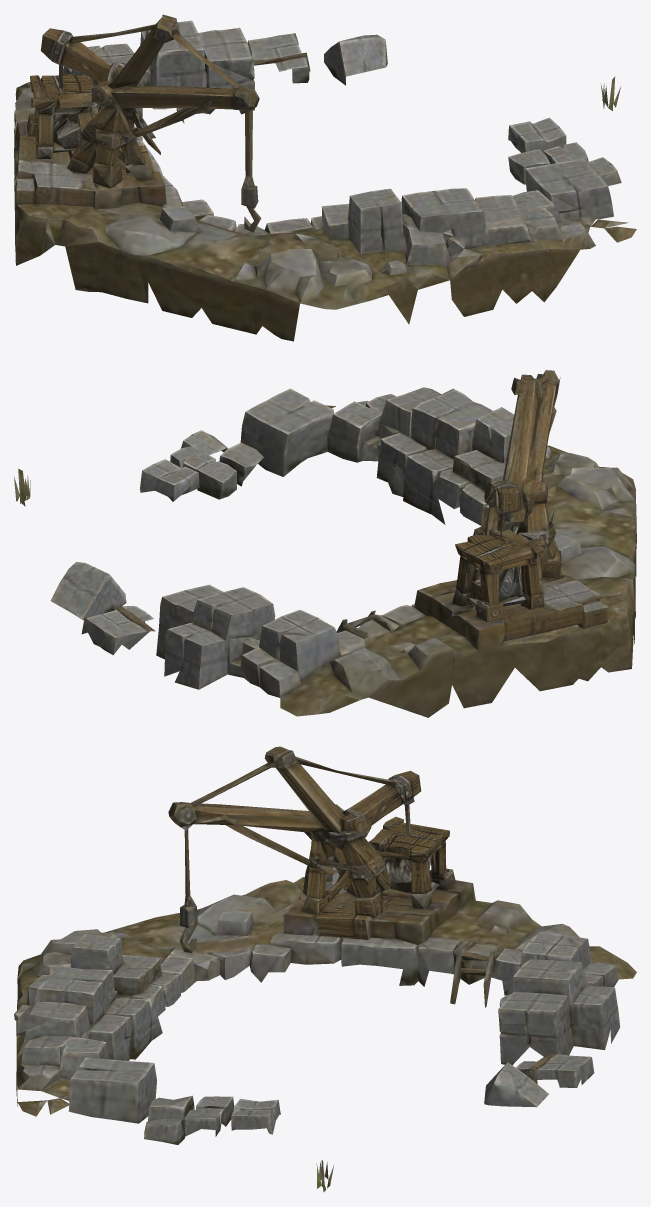
File: quarry.glb
3 views of the same model, one above another, from view 1: azimuth 30°, elevation 25°; view 2: azimuth 150°, elevation 25°; view 3: azimuth 270°, elevation 25° (orthographic). The views are drawn at different scales.
Bounding box in the file's own units: 2.29 × 0.8893 × 2.08.
1 material, 1 textured.
